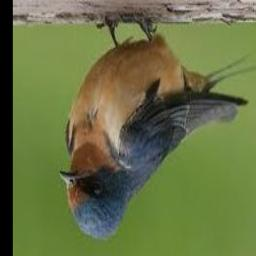Swallow: (59, 21, 256, 240)
